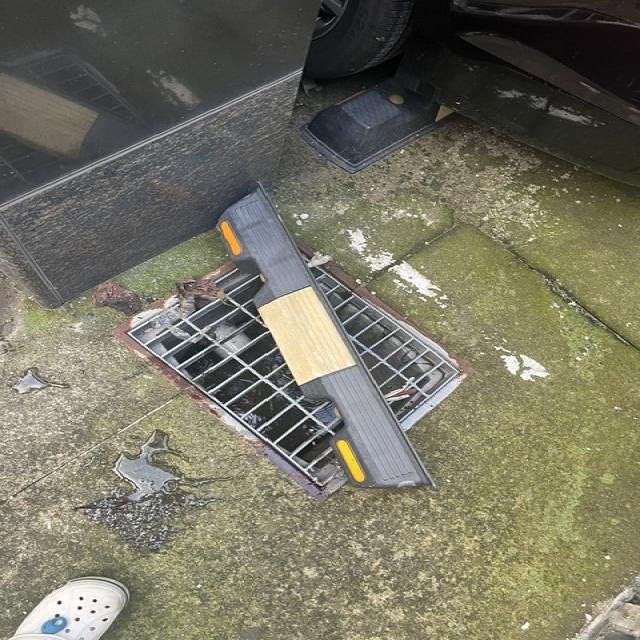drain_area: (127, 269, 344, 491), (309, 266, 461, 424), (301, 254, 310, 263)
drain_full: (130, 241, 459, 488)
